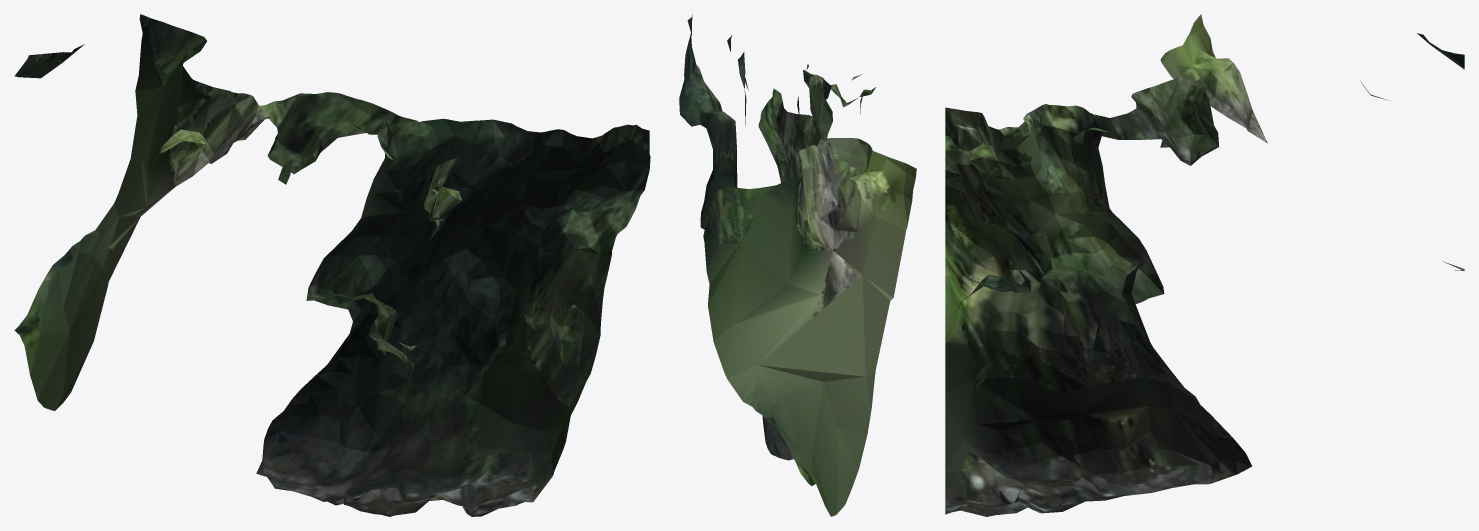
3 views of the same model, side by side, from view 1: azimuth 30°, elevation 25°; view 2: azimuth 150°, elevation 25°; view 3: azimuth 270°, elevation 25° (orthographic). The views are drawn at different scales.
Bounding box in the file's own units: 23.78 × 22.01 × 26.11.
3 materials, 3 textured.
